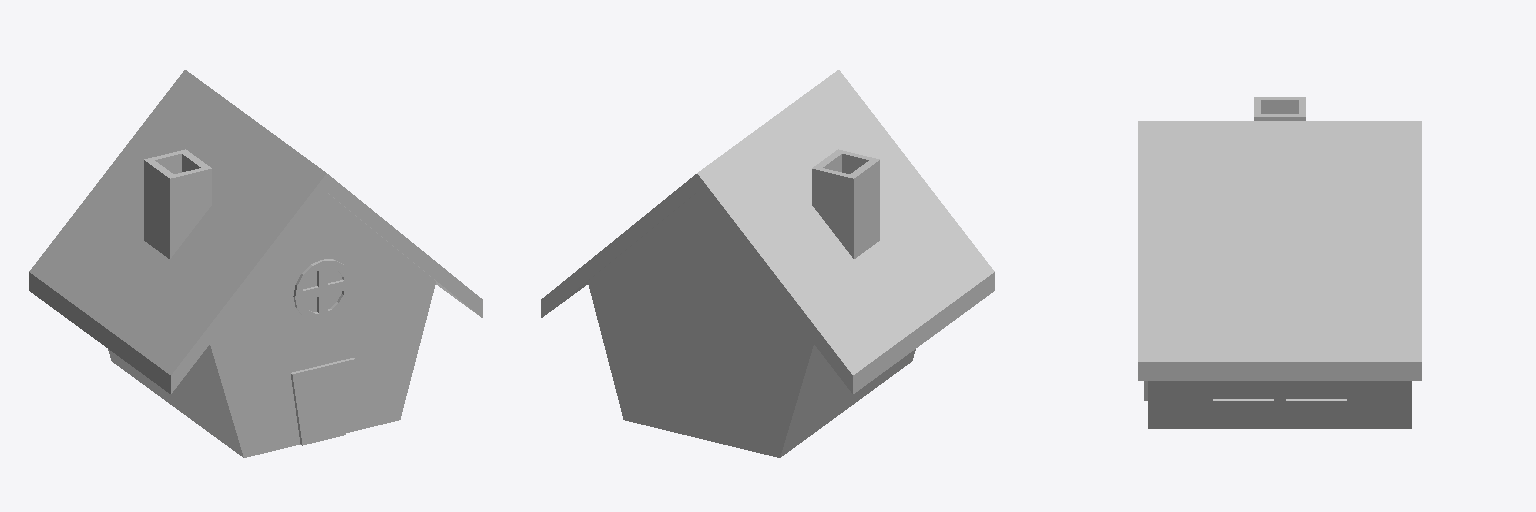
Rendered from casa.obj.
3 renders of one model, left to right at view 1: azimuth 30°, elevation 25°; view 2: azimuth 150°, elevation 25°; view 3: azimuth 270°, elevation 25°, orthographic.
Parts seen in each view (by area): view 1: casa_Cube; view 2: casa_Cube; view 3: casa_Cube.
Boxes of the visible parts, <box> form: casa_Cube: <box>29,70,482,457</box>; casa_Cube: <box>541,70,994,457</box>; casa_Cube: <box>1138,97,1421,428</box>.
Size of the model in its own units: 2.72 by 2.25 by 2.14.